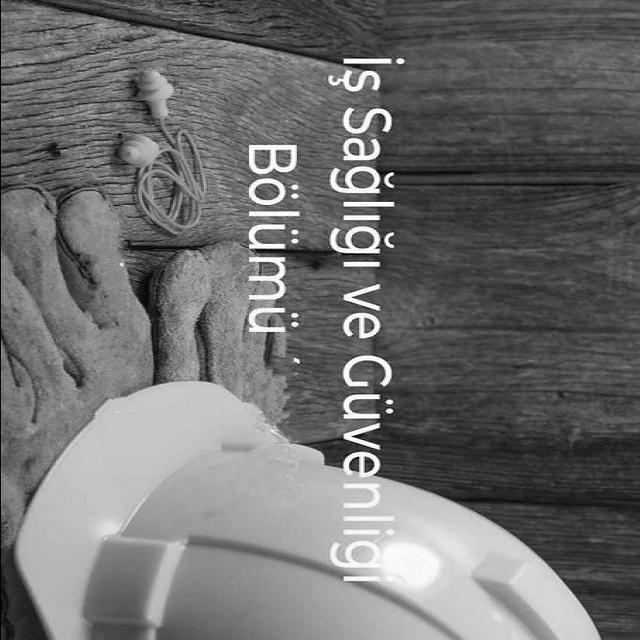safety_helmet: (6, 380, 599, 640)
